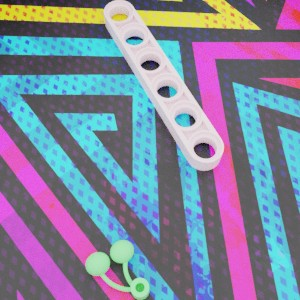lego: (103, 0, 223, 170), (85, 239, 149, 299)
